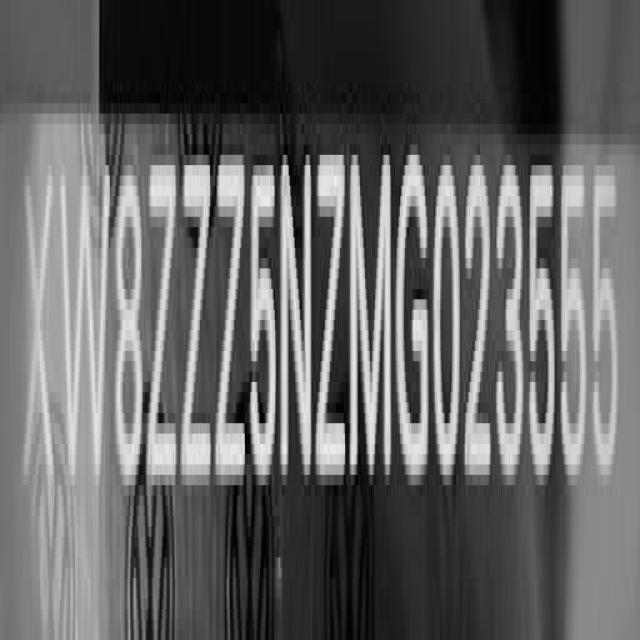0: (431, 146, 463, 490)
2: (462, 146, 496, 486)
3: (493, 149, 527, 512)
5: (556, 153, 591, 486), (248, 157, 280, 486), (591, 156, 621, 504), (527, 149, 556, 493)
8: (115, 156, 144, 524)
G: (394, 134, 431, 497)
M: (348, 142, 396, 497)
N: (281, 141, 312, 501)
W: (58, 172, 115, 508)
X: (22, 157, 56, 508)
Z: (180, 145, 213, 509), (214, 134, 247, 493), (145, 157, 179, 501), (314, 141, 348, 474)
